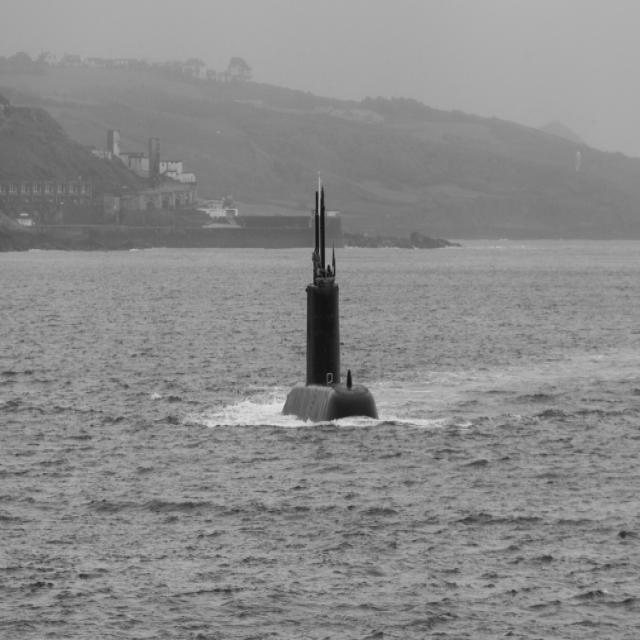submarine: (286, 191, 380, 427)
